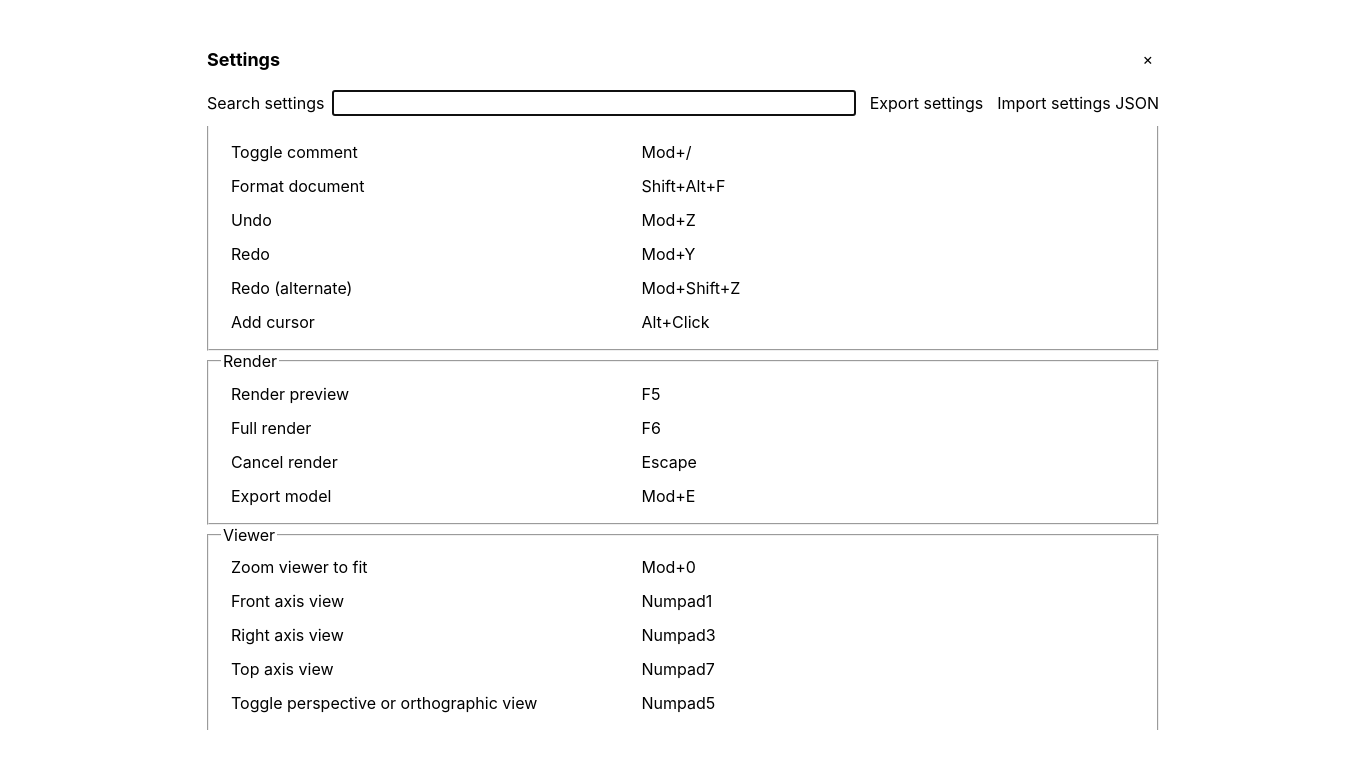
it: SettingsDialog › rejects a colliding keybinding with a visible error and no partial update
The width and height of the screenshot is (1366, 768).
(page scrolled)
Replace the text in the field named "Keybinding: Full render" with "F5": (887, 428) [639,417,1135,439]
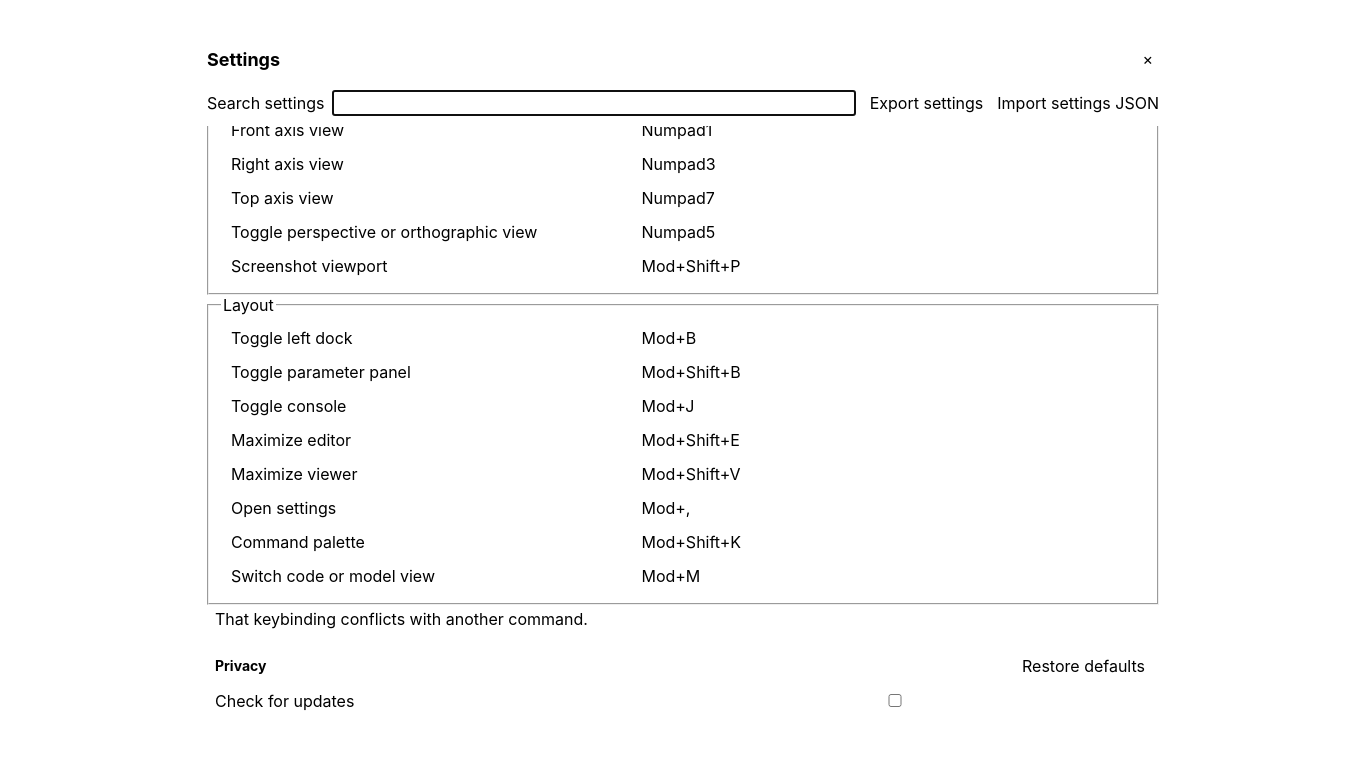
Expected: the message reads "That keybinding conflicts with another command.", [215,609,588,629]
